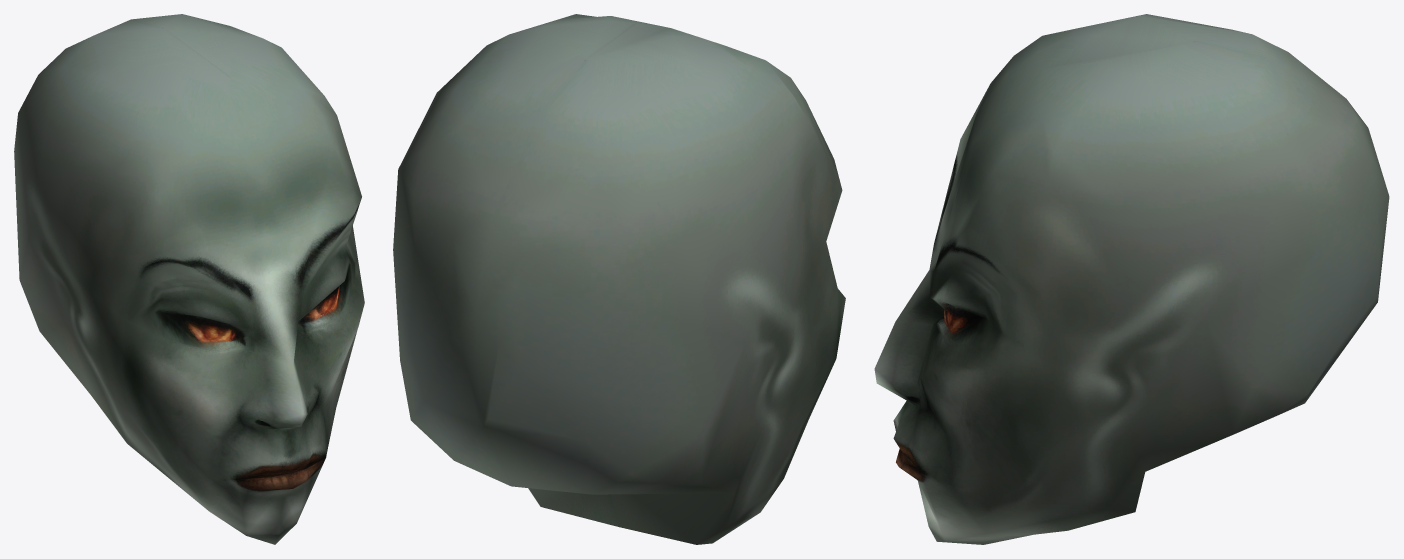
File: b_n_dark elf_f_head_03.glb
The picture shows the model from 3 angles, left to right: view 1: azimuth 30°, elevation 25°; view 2: azimuth 150°, elevation 25°; view 3: azimuth 270°, elevation 25°; orthographic projection. The views are drawn at different scales.
Parts seen in each view (by area): view 1: Tri B_N_Dark Elf_F_Head_03; view 2: Tri B_N_Dark Elf_F_Head_03; view 3: Tri B_N_Dark Elf_F_Head_03.
Part boxes in pixels (box(x1,y1,x2,y2)): Tri B_N_Dark Elf_F_Head_03: box(14, 14, 364, 544); Tri B_N_Dark Elf_F_Head_03: box(393, 14, 845, 544); Tri B_N_Dark Elf_F_Head_03: box(874, 14, 1389, 544).
Bounding box in the file's own units: 0.0941 × 0.1518 × 0.1417.
1 material, 1 textured.
